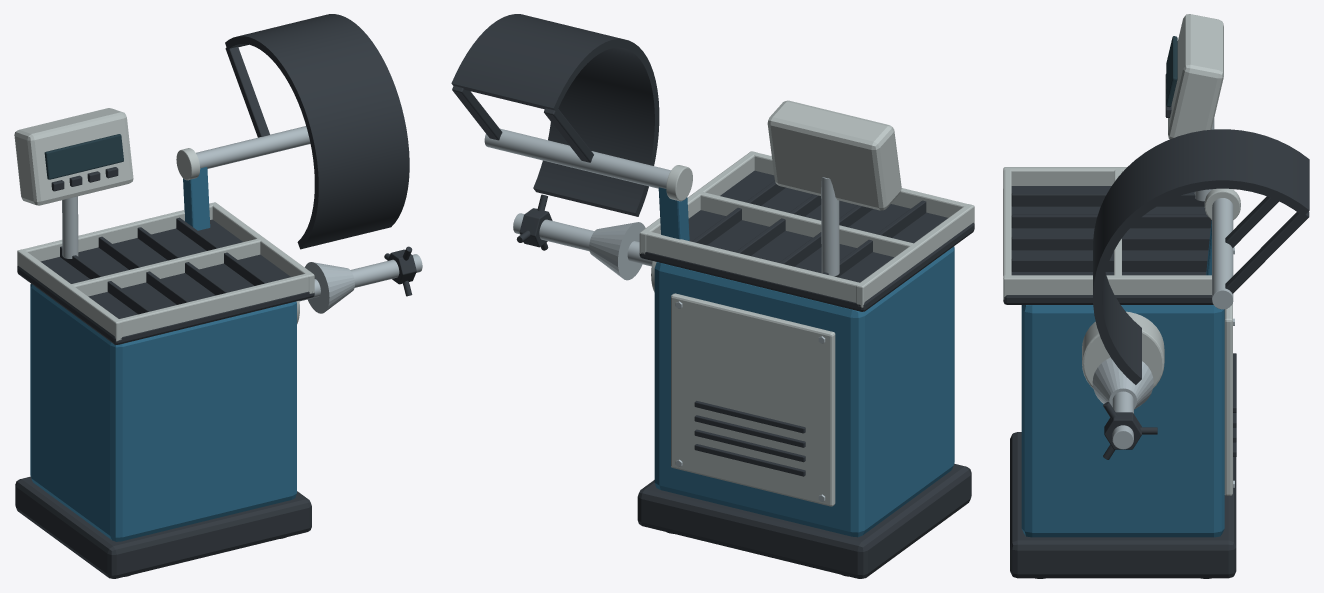
File: city-wheel-balancing-machine.glb
3 renders of one model, left to right at view 1: azimuth 30°, elevation 25°; view 2: azimuth 150°, elevation 25°; view 3: azimuth 270°, elevation 25°, orthographic. The views are drawn at different scales.
Parts seen in each view (by area): view 1: Assembly | Deep blue service paint, Assembly | Dark mechanism trim, Assembly | Powder-coated light service metal, Assembly | Brushed exposed steel, Assembly | Blank inactive control face; view 2: Assembly | Dark mechanism trim, Assembly | Powder-coated light service metal, Assembly | Deep blue service paint, Assembly | Brushed exposed steel; view 3: Assembly | Dark mechanism trim, Assembly | Deep blue service paint, Assembly | Powder-coated light service metal, Assembly | Brushed exposed steel, Assembly | Blank inactive control face.
Boxes of the visible parts, box(x1,y1,x2,y2) form: Assembly | Deep blue service paint: box(30, 167, 296, 541); Assembly | Dark mechanism trim: box(15, 14, 416, 578); Assembly | Powder-coated light service metal: box(14, 108, 314, 341); Assembly | Brushed exposed steel: box(62, 126, 422, 313); Assembly | Blank inactive control face: box(44, 134, 123, 179); Assembly | Dark mechanism trim: box(451, 14, 974, 578); Assembly | Powder-coated light service metal: box(639, 100, 974, 506); Assembly | Deep blue service paint: box(654, 187, 954, 537); Assembly | Brushed exposed steel: box(484, 128, 839, 501); Assembly | Dark mechanism trim: box(1003, 74, 1309, 578); Assembly | Deep blue service paint: box(1021, 220, 1224, 537); Assembly | Powder-coated light service metal: box(1003, 14, 1240, 495); Assembly | Brushed exposed steel: box(1092, 118, 1234, 487); Assembly | Blank inactive control face: box(1166, 36, 1177, 107).
Size of the model in its own units: 1.31 by 1.44 by 0.8305.
